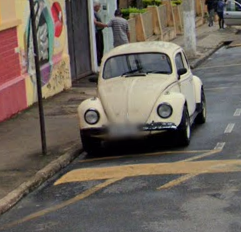car: (76, 36, 210, 153)
